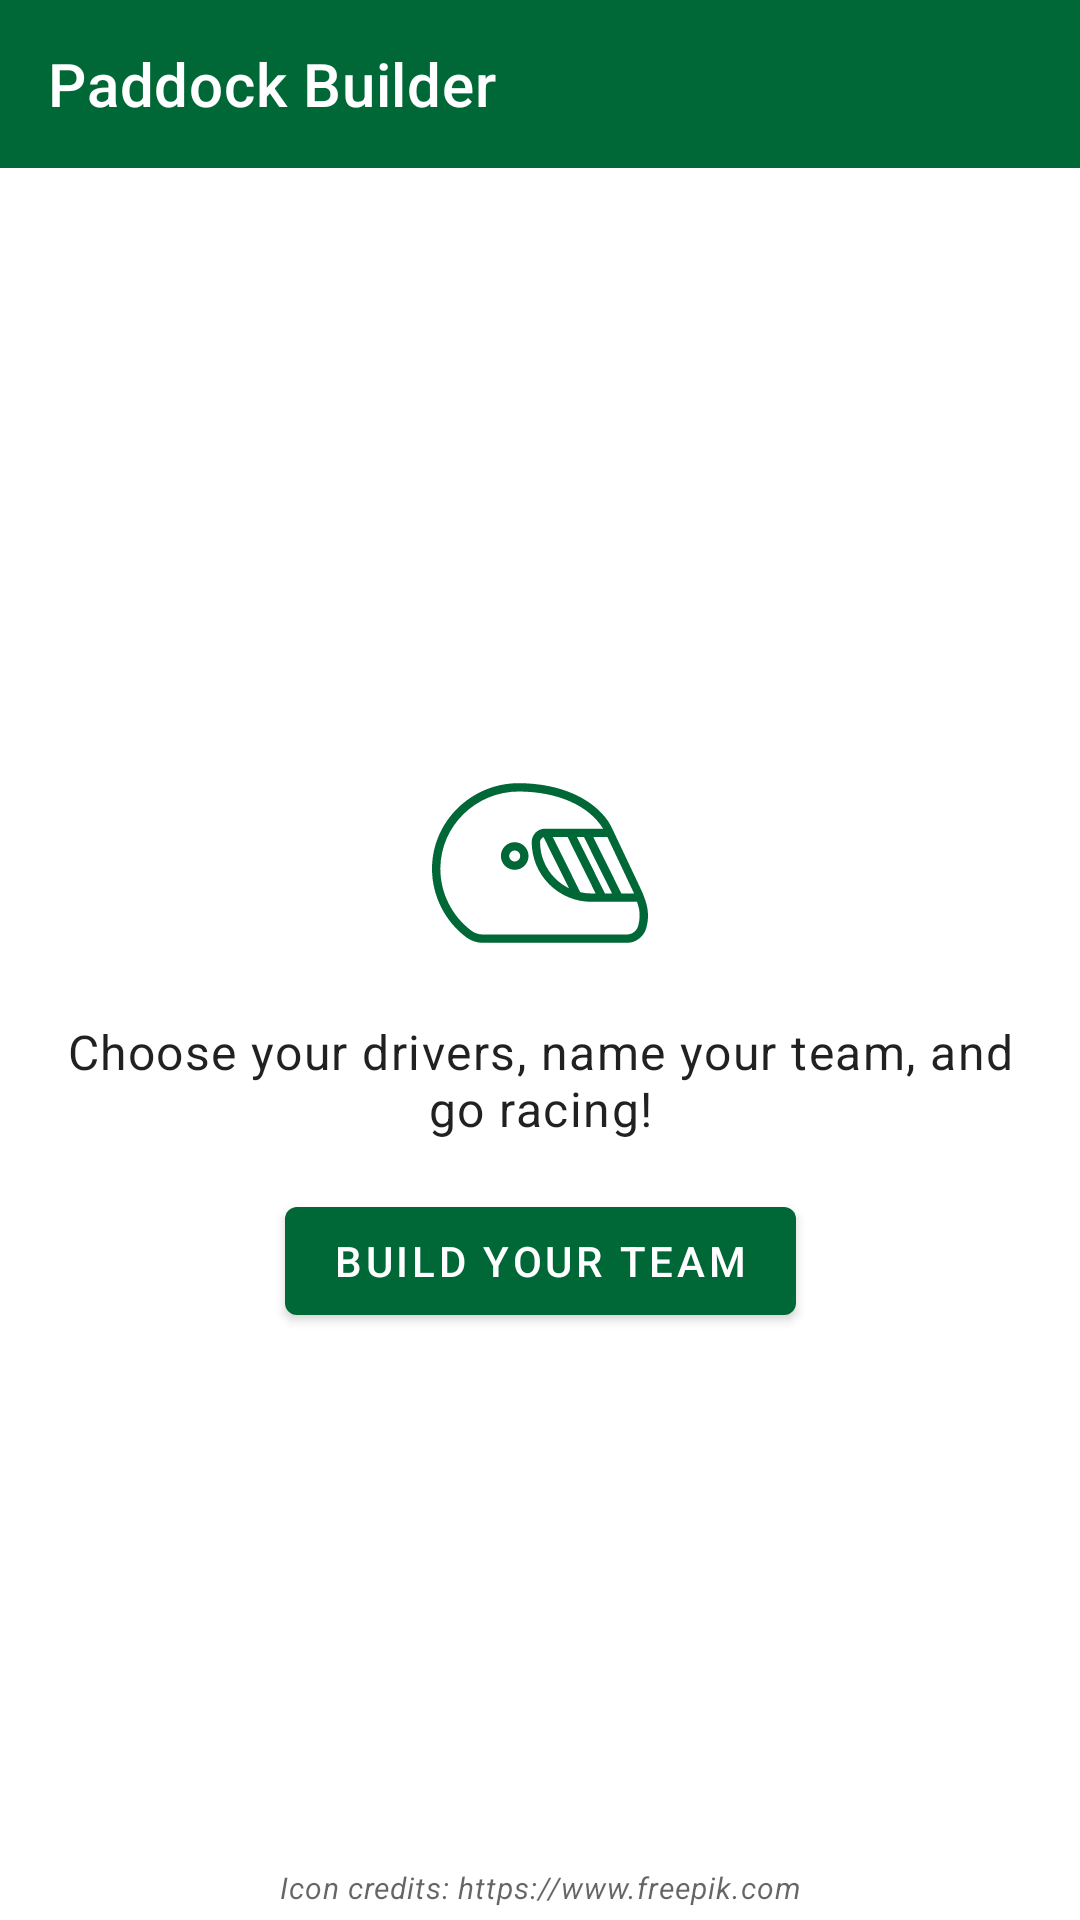

Icons on this 1080 × 1920 Android screen, each with the point to tap as point (x, y):
Formula 1 helmet: point (540, 863)
